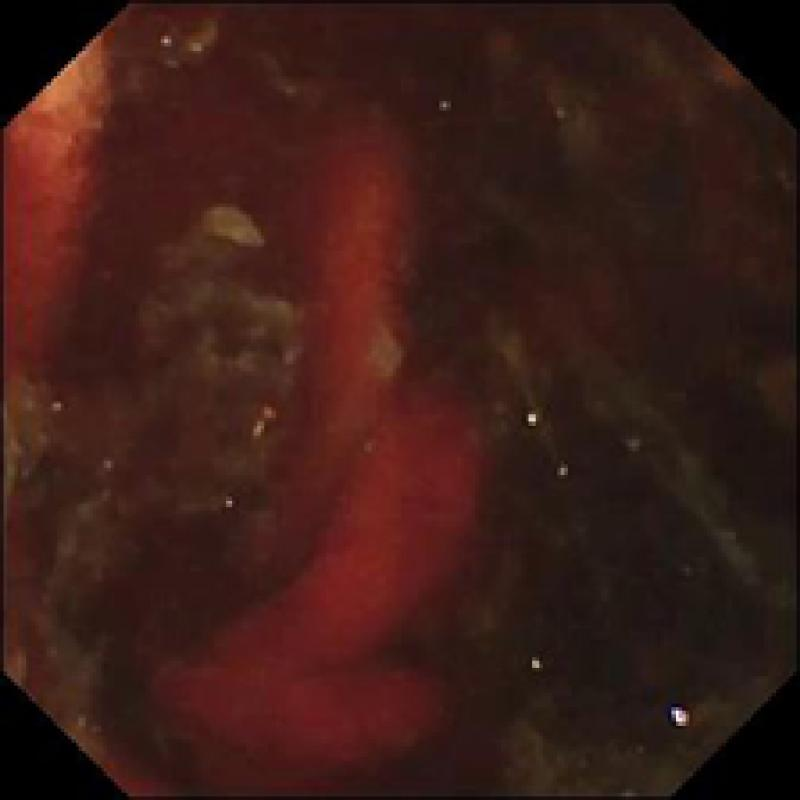bleeding: (161, 104, 468, 754), (0, 125, 86, 350)
